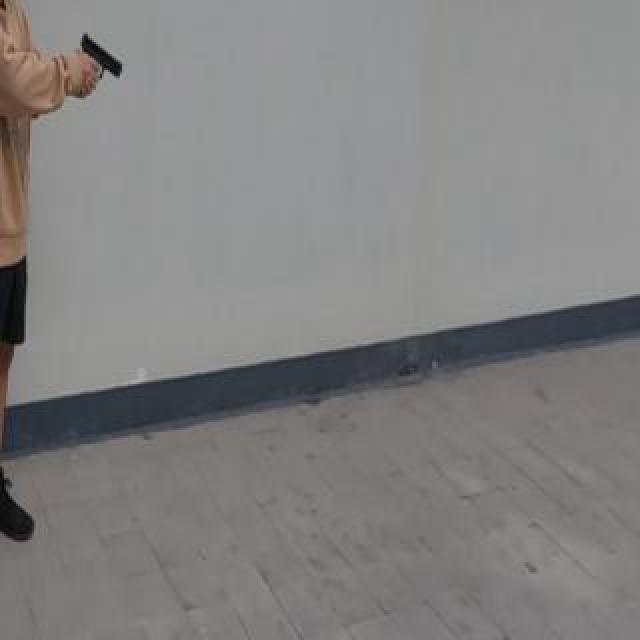Guns: (72, 22, 130, 92)
